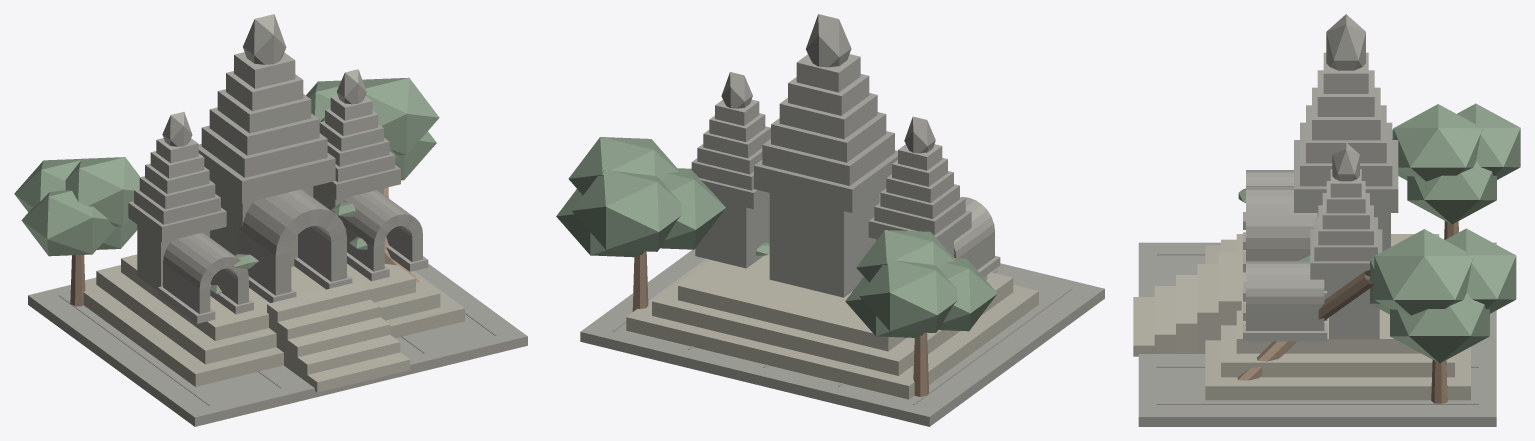
The picture shows the model from 3 angles, left to right: view 1: azimuth 30°, elevation 25°; view 2: azimuth 150°, elevation 25°; view 3: azimuth 270°, elevation 25°; orthographic projection. The views are drawn at different scales.
Visible parts, largest first — view 1: S33; view 2: S33; view 3: S33.
Part boxes in pixels (x1,y1,x2,y2): S33: (14,14,527,426); S33: (556,14,1104,426); S33: (1133,14,1520,426).
Size of the model in its own units: 4.76 by 3.48 by 3.81.
